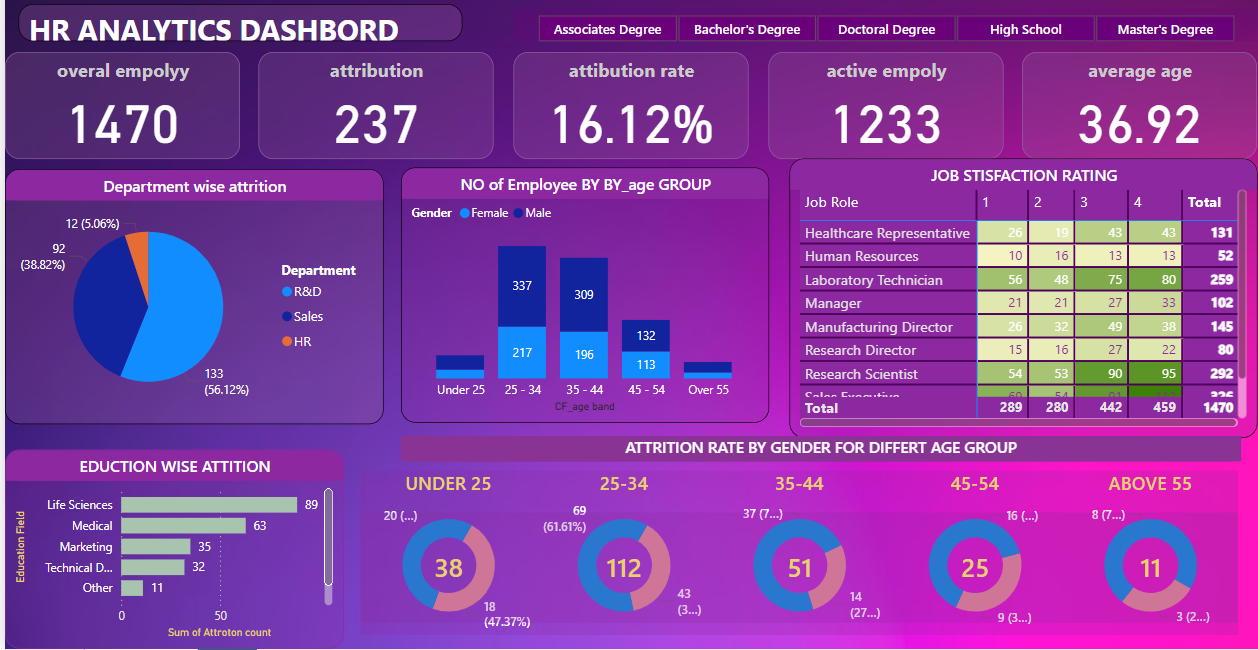

The dashboard page shown, as its layout file describes it:
{"tool":"powerbi","page":{"name":"Page 1","canvas":[1280,720],"ordinal":0},"visuals":[{"type":"card","title":"overal empolyy","fields":{"Values":["Sum(HR data.Employee Count)"]},"box":[0,109.6,240,109.6],"z":0},{"type":"card","title":"attribution","fields":{"Values":["Sum(HR data.Attroton count)"]},"box":[258.9,109.6,240,109.6],"z":1000},{"type":"card","title":"attibution rate","fields":{"Values":["HR data.attribution rang"]},"box":[519.7,109.6,240,109.6],"z":2000},{"type":"card","title":"active empoly","fields":{"Values":["HR data.active empole"]},"box":[780.5,109.6,240,109.6],"z":3000},{"type":"card","title":"average age","fields":{"Values":["Avg(HR data.Age)"]},"box":[1039.4,109.6,240,109.6],"z":4000},{"type":"pieChart","title":" Department wise attrition","fields":{"Category":["HR data.Department"],"Y":["Sum(HR data.Attroton count)"]},"box":[0,229.3,386.4,260.7],"z":5000},{"type":"columnChart","title":"NO of Employee BY  BY_age GROUP","fields":{"Category":["HR data.CF_age band"],"Y":["Sum(HR data.Employee Count)"],"Series":["HR data.Gender"]},"box":[404.4,228.7,376.1,260.8],"z":6000},{"type":"pivotTable","title":"JOB STISFACTION RATING","fields":{"Rows":["HR data.Job Role"],"Columns":["HR data.Job Satisfaction"],"Values":["Sum(HR data.Employee Count)"]},"box":[801.3,219.2,478.1,285.4],"z":7000},{"type":"barChart","title":" EDUCTION  WISE ATTITION","fields":{"Category":["HR data.Education Field"],"Y":["Sum(HR data.Attroton count)"]},"box":[0,515.8,345.7,203.4],"z":8000},{"type":"donutChart","title":"UNDER 25","fields":{"Category":["HR data.Gender"],"Y":["Sum(HR data.Attroton count)"],"Series":["HR data.CF_age band"]},"box":[362.4,538,179.3,168.2],"z":9000},{"type":"textbox","title":"ATTRITION RATE BY GENDER FOR DIFFERT AGE  GROUP","box":[404.9,502.9,857.9,25.9],"z":10000},{"type":"donutChart","title":"25-34","fields":{"Category":["HR data.Gender"],"Y":["Sum(HR data.Attroton count)"],"Series":["HR data.CF_age band"]},"box":[541.7,538,179.3,168.2],"z":11000},{"type":"donutChart","title":"35-44","fields":{"Category":["HR data.Gender"],"Y":["Sum(HR data.Attroton count)"],"Series":["HR data.CF_age band"]},"box":[721,538,179.3,168.2],"z":12000},{"type":"donutChart","title":"45-54","fields":{"Category":["HR data.Gender"],"Y":["Sum(HR data.Attroton count)"],"Series":["HR data.CF_age band"]},"box":[900.4,538,179.3,168.2],"z":13000},{"type":"donutChart","title":"ABOVE 55","fields":{"Category":["HR data.Gender"],"Y":["Sum(HR data.Attroton count)"],"Series":["HR data.CF_age band"]},"box":[1079.7,538,179.3,168.2],"z":14000},{"type":"card","fields":{"Values":["Sum(HR data.Attroton count)"]},"box":[362.4,580.5,179.3,112.8],"z":15000},{"type":"card","fields":{"Values":["Sum(HR data.Attroton count)"]},"box":[541.7,580.5,179.3,112.8],"z":16000},{"type":"card","fields":{"Values":["Sum(HR data.Attroton count)"]},"box":[721,580.5,179.3,112.8],"z":17000},{"type":"card","fields":{"Values":["Sum(HR data.Attroton count)"]},"box":[900.4,580.5,179.3,112.8],"z":18000},{"type":"card","fields":{"Values":["Sum(HR data.Attroton count)"]},"box":[1079.7,580.5,179.3,112.8],"z":19000},{"type":"textbox","title":"HR ANALYTICS DASHBORD","box":[13.8,61.3,453.4,38.3],"z":20000},{"type":"slicer","fields":{"Values":["HR data.Education"]},"box":[519.5,66.6,759.9,33.3],"z":21000}]}

Visuals, with their boxes on the page's 1280x720 design canvas (x1, y1, x2, y2). These are canvas units, not pixel positions in the 1258x650 screenshot, which may show the page scaled, cropped or inside an application window:
"overal empolyy" card: 0 110 240 219
"attribution" card: 259 110 499 219
"attibution rate" card: 520 110 760 219
"active empoly" card: 780 110 1020 219
"average age" card: 1039 110 1279 219
" Department wise attrition" pieChart: 0 229 386 490
"NO of Employee BY  BY_age GROUP" columnChart: 404 229 780 490
"JOB STISFACTION RATING" pivotTable: 801 219 1279 505
" EDUCTION  WISE ATTITION" barChart: 0 516 346 719
"UNDER 25" donutChart: 362 538 542 706
"ATTRITION RATE BY GENDER FOR DIFFERT AGE  GROUP" textbox: 405 503 1263 529
"25-34" donutChart: 542 538 721 706
"35-44" donutChart: 721 538 900 706
"45-54" donutChart: 900 538 1080 706
"ABOVE 55" donutChart: 1080 538 1259 706
card - Sum(HR data.Attroton count): 362 580 542 693
card - Sum(HR data.Attroton count): 542 580 721 693
card - Sum(HR data.Attroton count): 721 580 900 693
card - Sum(HR data.Attroton count): 900 580 1080 693
card - Sum(HR data.Attroton count): 1080 580 1259 693
"HR ANALYTICS DASHBORD" textbox: 14 61 467 100
slicer - HR data.Education: 520 67 1279 100
